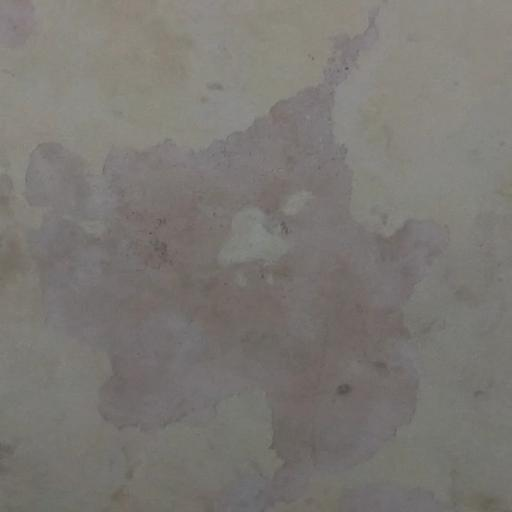peeling: (0, 2, 456, 492)
